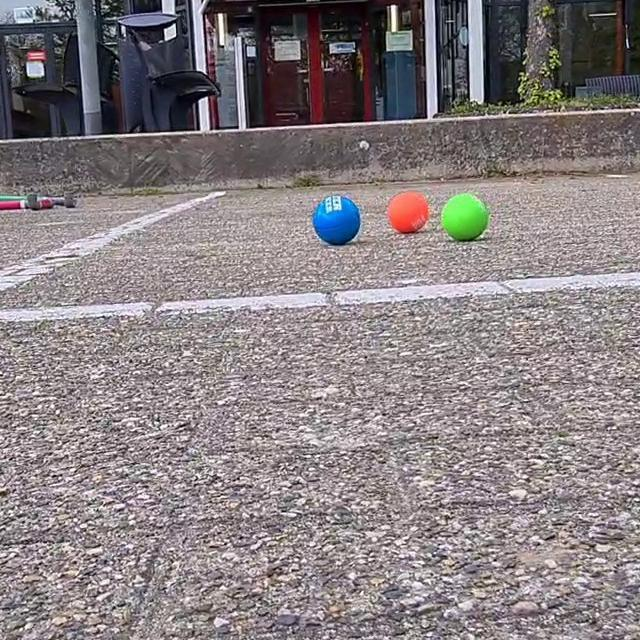ball: (312, 194, 364, 248), (438, 194, 492, 246), (385, 189, 430, 236)
